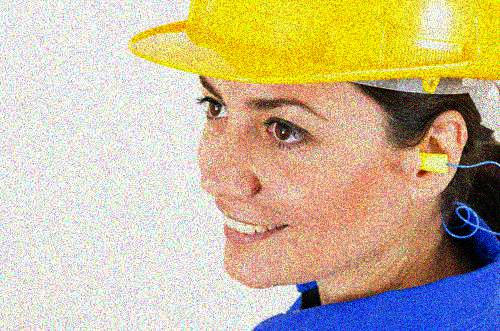helmet: (123, 1, 500, 283)
